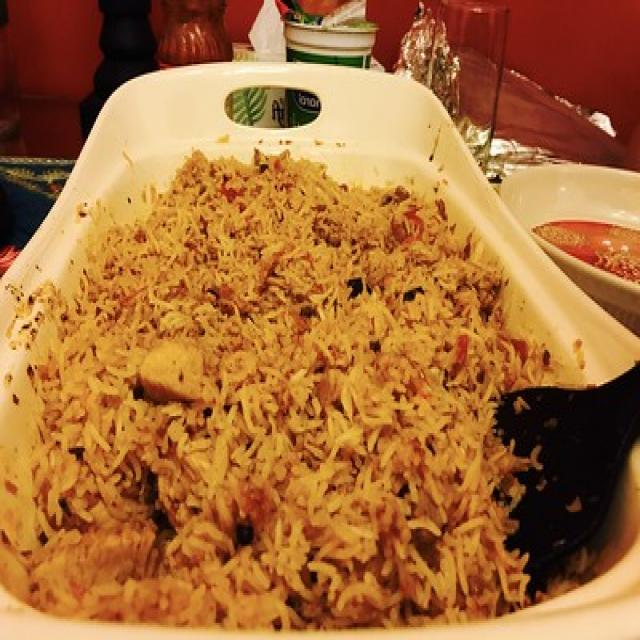Biryani: (94, 174, 465, 627)
